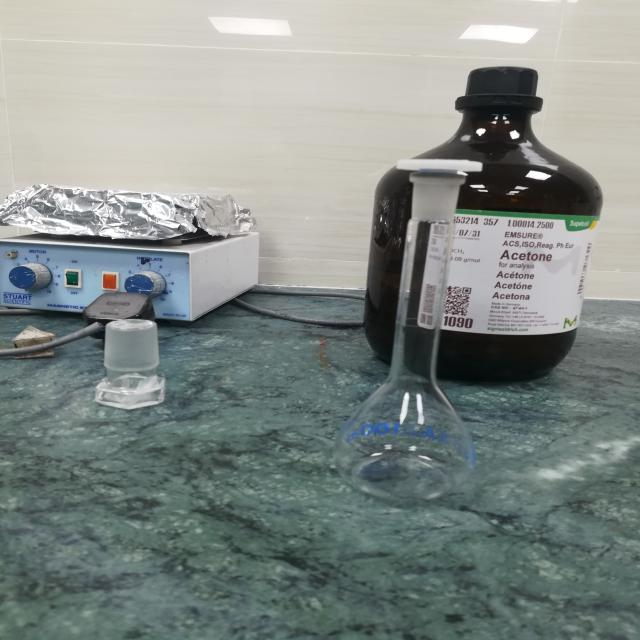Volumetric_Flask: (302, 116, 520, 528)
